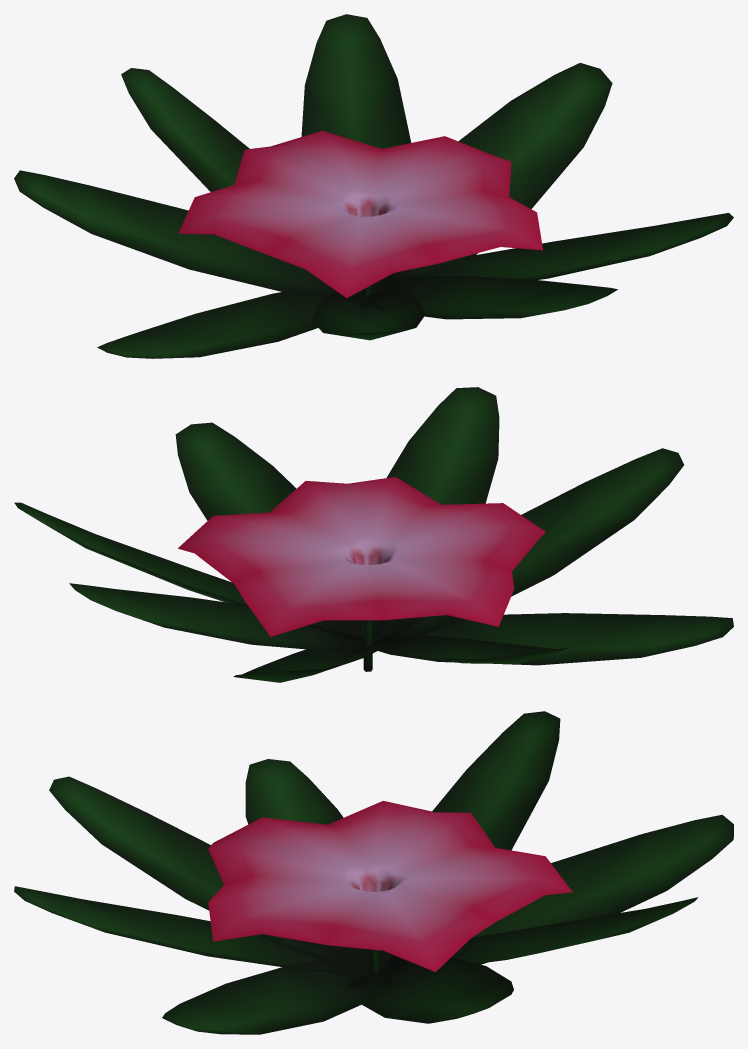
Rendered from Flower_1_v2.fbx.
The picture shows the model from 3 angles, top to bottom: view 1: azimuth 30°, elevation 25°; view 2: azimuth 150°, elevation 25°; view 3: azimuth 270°, elevation 25°; orthographic projection. The views are drawn at different scales.
Visible parts, largest first — view 1: Flower_1_v2; view 2: Flower_1_v2; view 3: Flower_1_v2.
Boxes of the visible parts, box(x1,y1,x2,y2) form: Flower_1_v2: box(14, 14, 733, 358); Flower_1_v2: box(14, 387, 733, 682); Flower_1_v2: box(14, 711, 733, 1034).
Bounding box in the file's own units: 105 × 26.56 × 105.
